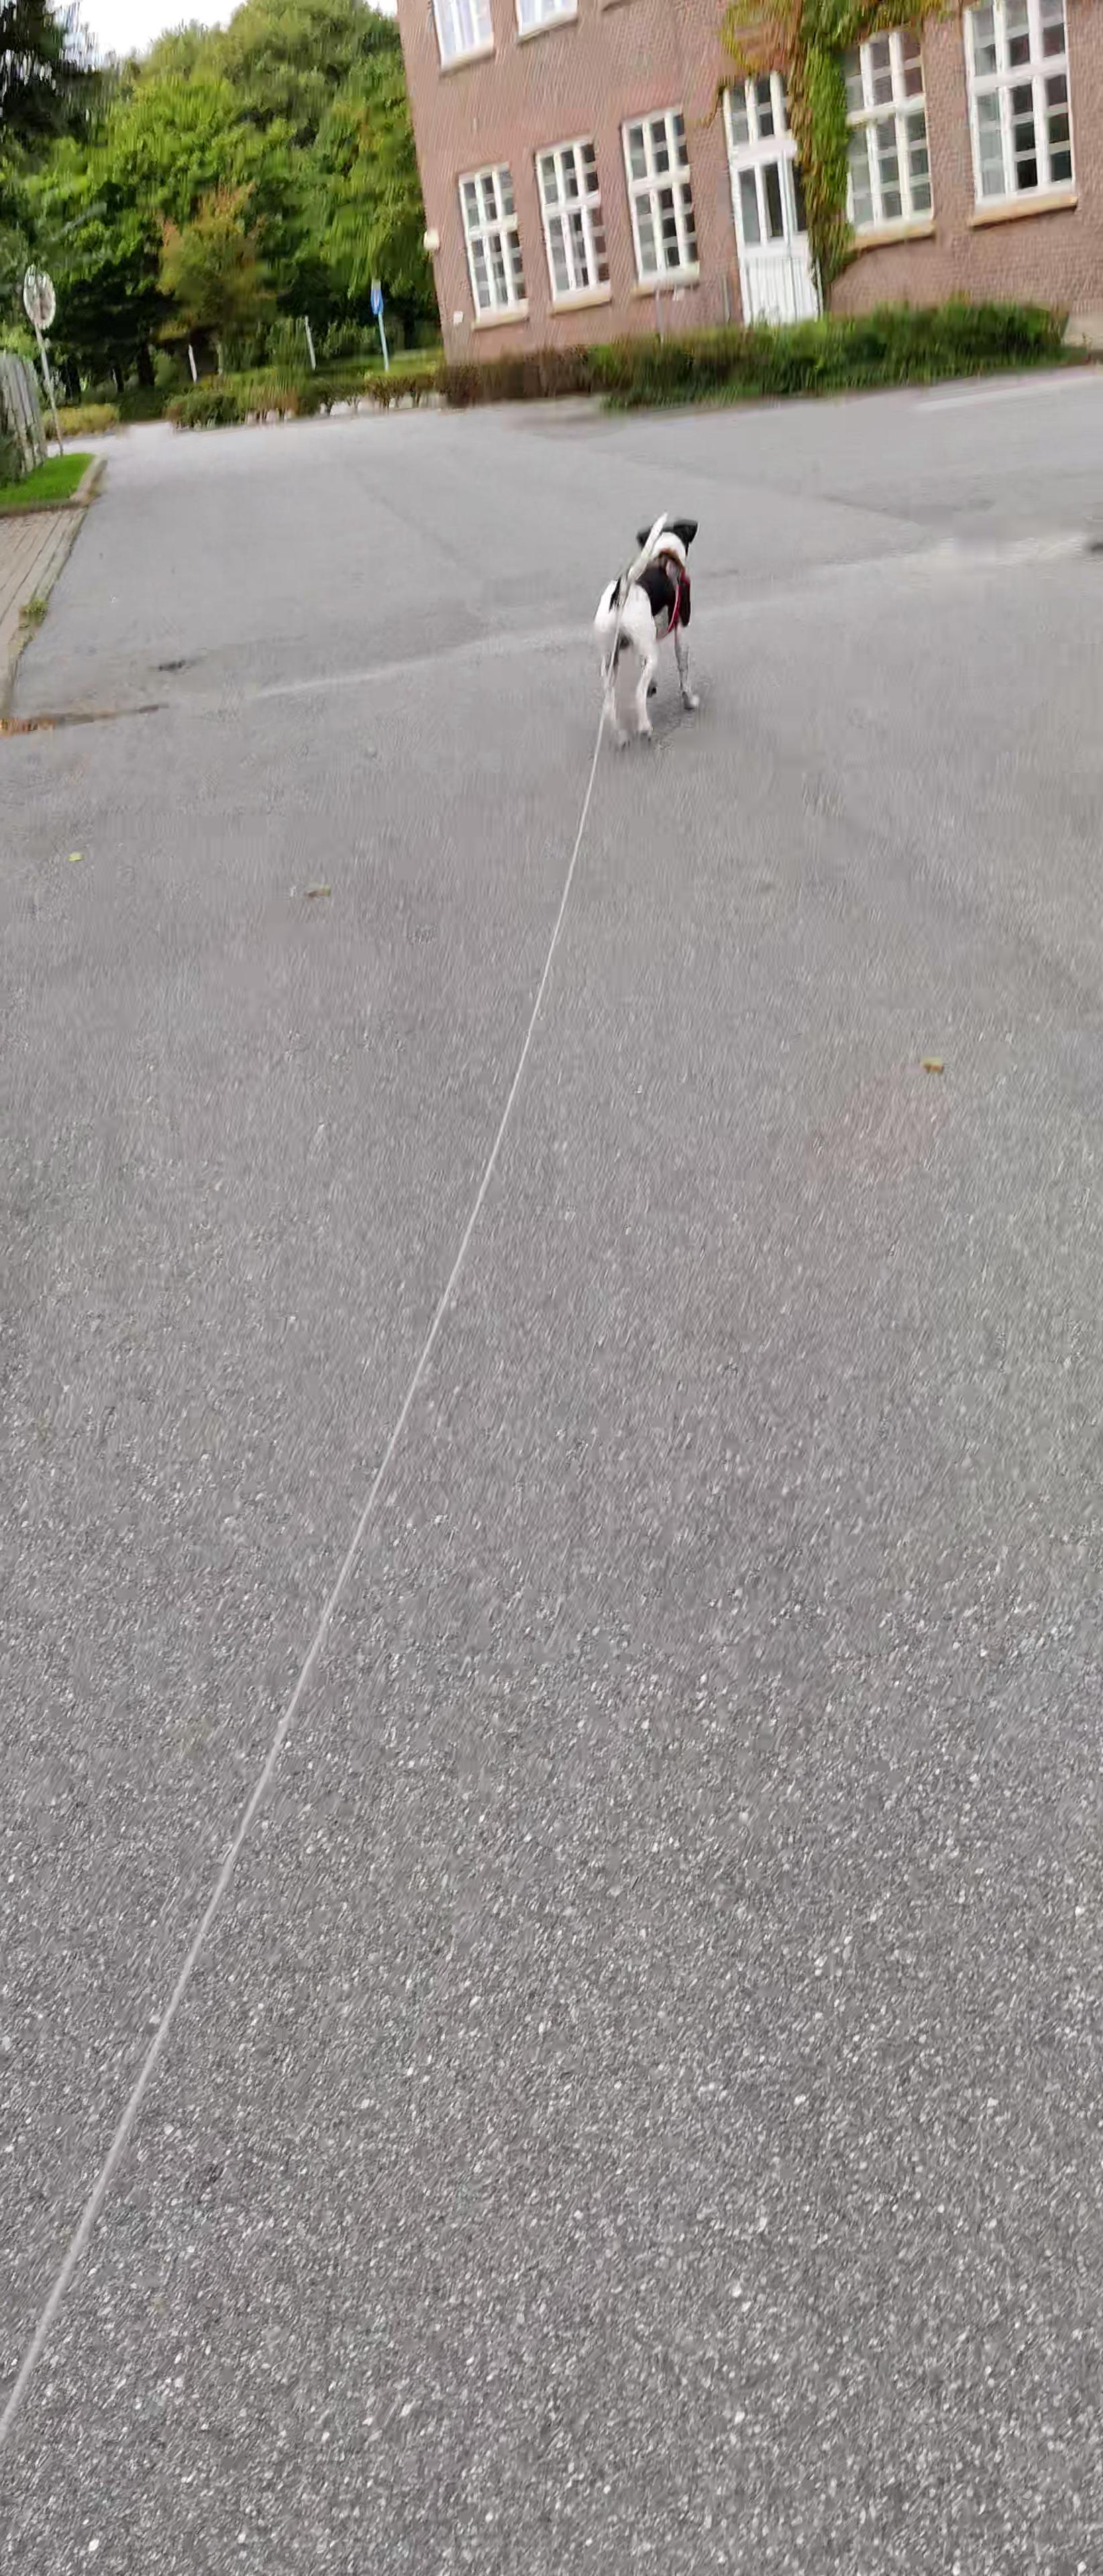Dog: (592, 509, 707, 751)
